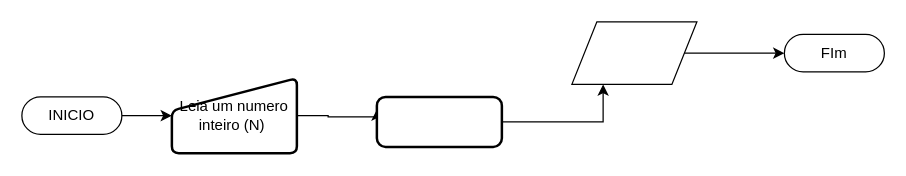
Some shapes in this 906 by 176 pixel diagram are drawn without their labels. Each missing label, with the centre of its shape:
"Resultado da soma" belongs at (x=634, y=52).
"Some todos os numeros de 1 até N" belongs at (x=438, y=121).
